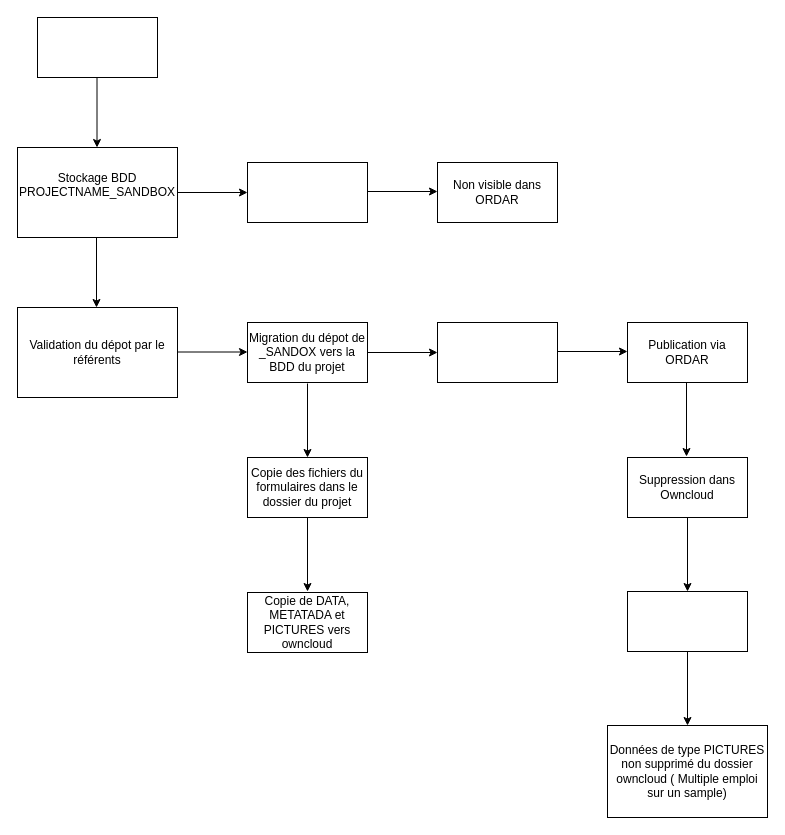
This 785x835 diagram has some shape labels left out. The centre of each missing label's shape, as x and y in pixels:
"Création du fichier HTML" belongs at (687,621).
"Depot Formulaire" belongs at (97,47).
"Status AWAITING" belongs at (307,192).
"Visible sur ORDAR avec un status UNPUBLISHED" belongs at (497,352).
